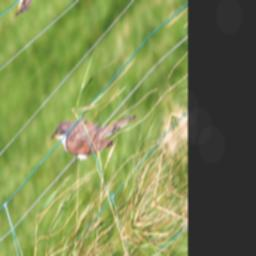Cuckoo: (47, 56, 141, 199)
